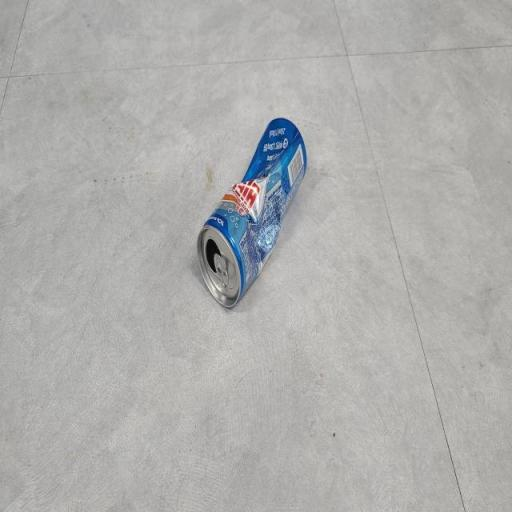metal: (194, 105, 312, 311)
